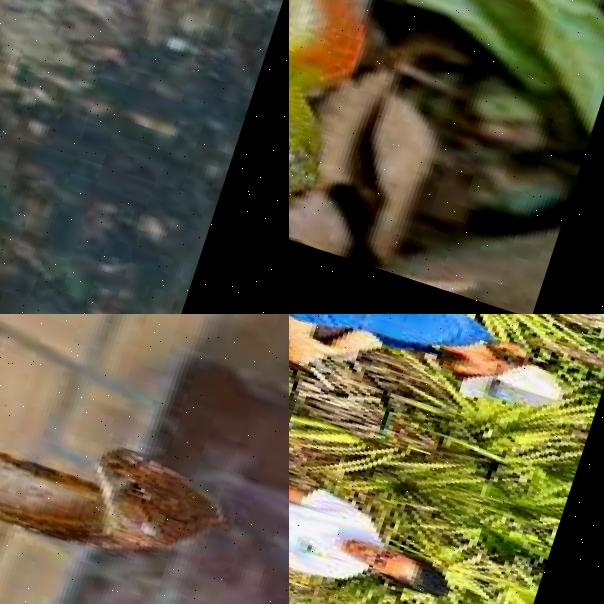snake: (0, 0, 289, 314), (0, 335, 267, 604), (289, 0, 512, 248)
